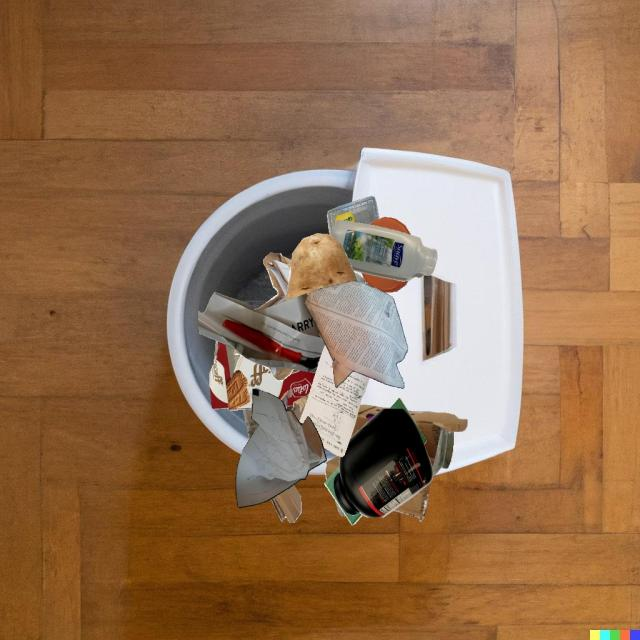biowaste: (286, 233, 357, 301)
cardboard: (340, 409, 465, 483), (210, 340, 316, 411), (235, 309, 287, 368), (281, 400, 306, 493), (254, 253, 291, 311)
glass: (433, 429, 454, 476), (252, 410, 300, 420), (244, 416, 259, 439), (354, 273, 369, 286), (335, 500, 345, 516)
paper: (304, 281, 408, 388), (236, 389, 327, 508), (198, 292, 325, 373), (299, 344, 370, 457), (325, 467, 363, 525), (390, 398, 427, 444)
plastic: (334, 409, 433, 518), (330, 220, 437, 282), (327, 196, 379, 235), (361, 272, 408, 293), (370, 217, 411, 235), (424, 444, 424, 445)
